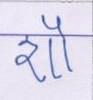ai_matra: (41, 15, 68, 34)
